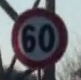limite 60: (8, 6, 67, 69)
